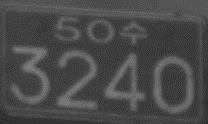0: (152, 53, 195, 114), (86, 16, 115, 44)
2: (55, 47, 98, 110)
3: (9, 43, 49, 105)
4: (104, 52, 145, 112)
5: (53, 14, 81, 42)
수: (120, 19, 148, 46)
